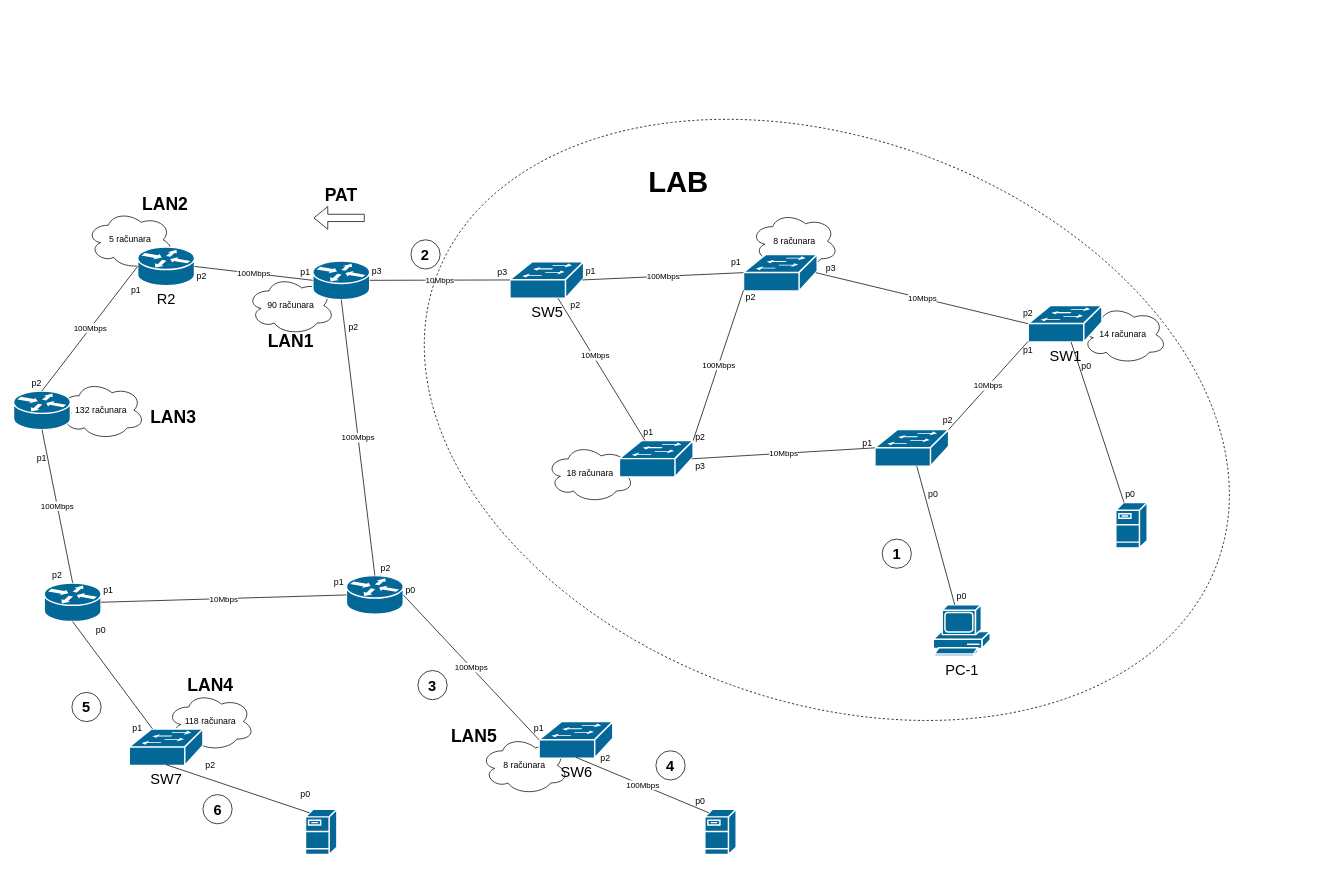
Image size: 1327x890. Some labels were removed from this diagram. The shapes that lost their labels are listed below. From the top down, each one's centre as x and y in pixels, then its label:
At (x=341, y=280): "R1".
At (x=780, y=272): "SW4".
At (x=41, y=410): "R3".
At (x=656, y=458): "SW3".
At (x=911, y=447): "SW2".
At (x=1131, y=525): "DHCP".
At (x=72, y=602): "R4".
At (x=374, y=595): "R5".
At (x=320, y=831): "www.etf.bg.ac.rs".
At (x=720, y=831): "ns.etf.bg.ac.rs".
